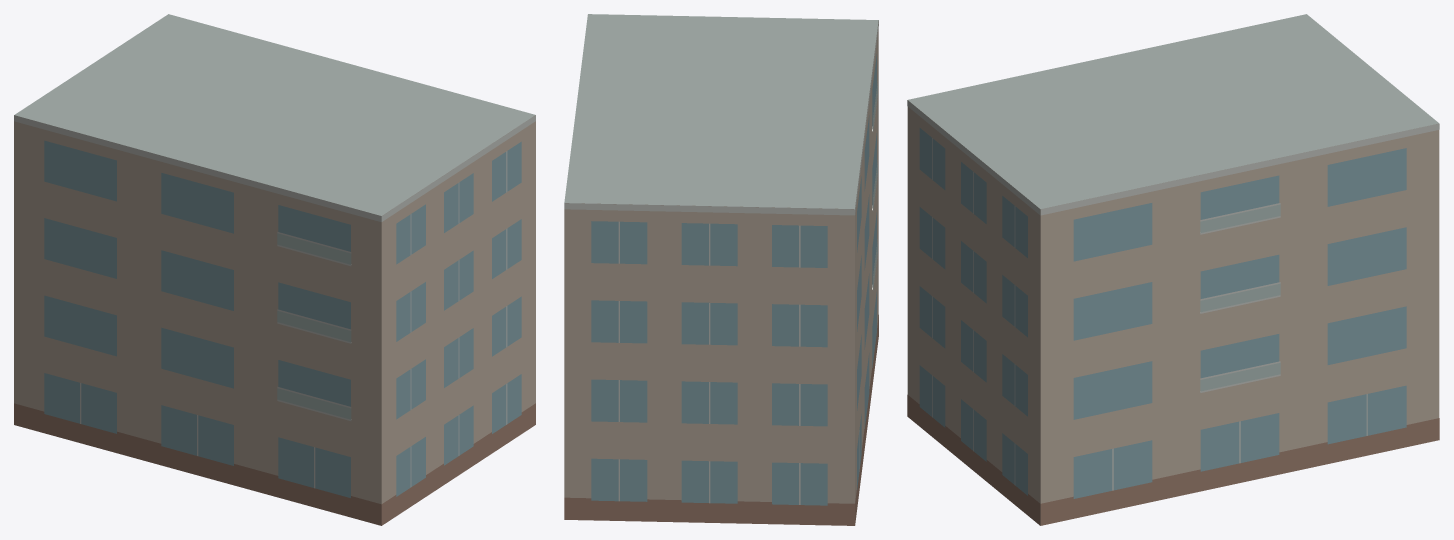
The model's file is survey-upis-32831032.glb.
3 renders of one model, left to right at view 1: azimuth 30°, elevation 25°; view 2: azimuth 150°, elevation 25°; view 3: azimuth 270°, elevation 25°, orthographic. The views are drawn at different scales.
Parts seen in each view (by area): view 1: survey-upis-32831032.tmp; view 2: survey-upis-32831032.tmp; view 3: survey-upis-32831032.tmp.
Part boxes in pixels (x1,y1,x2,y2): survey-upis-32831032.tmp: (14, 14, 535, 525); survey-upis-32831032.tmp: (564, 14, 878, 525); survey-upis-32831032.tmp: (907, 14, 1439, 525).
Size of the model in its own units: 16.14 by 12.2 by 18.59.
